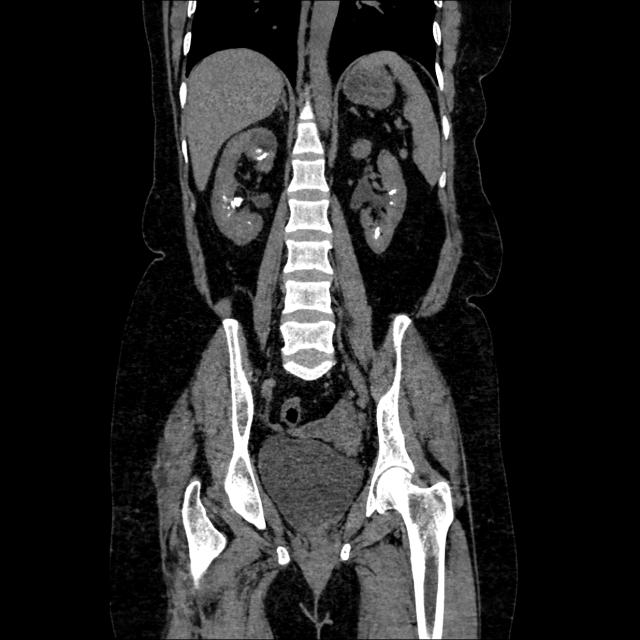kidney: (219, 131, 276, 245), (357, 156, 401, 249)
stone: (231, 198, 240, 206), (374, 228, 380, 240), (258, 155, 265, 160), (257, 148, 261, 153), (389, 191, 395, 194), (390, 202, 393, 204)
